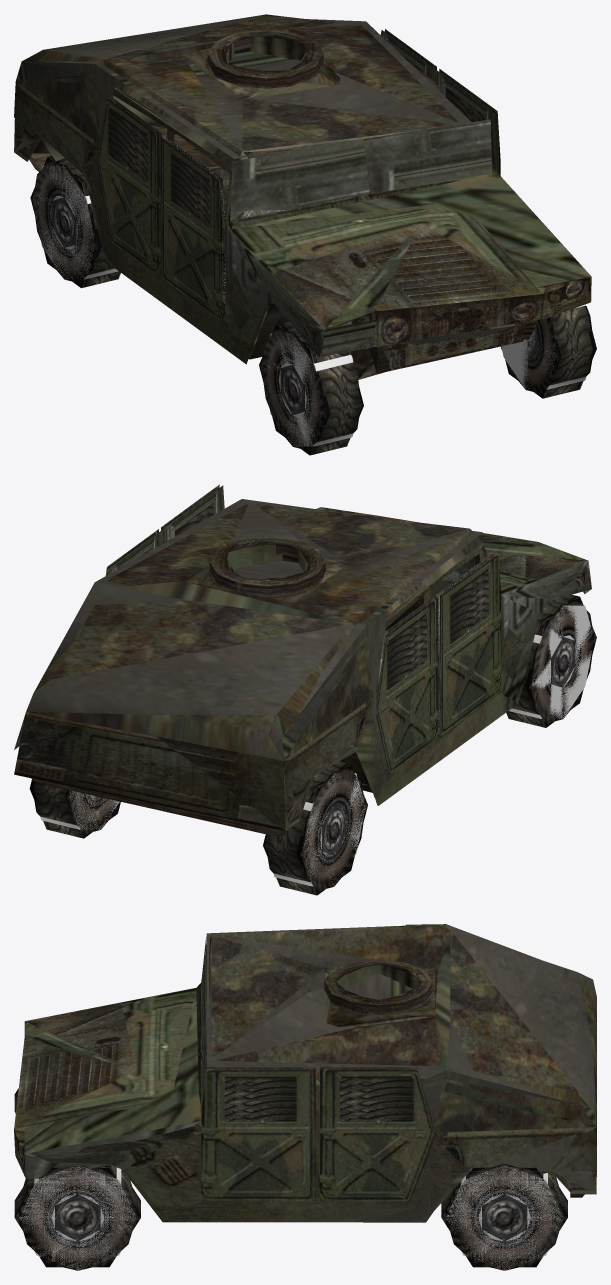
Rendered from FHum50X.glb.
3 views of the same model, one above another, from view 1: azimuth 30°, elevation 25°; view 2: azimuth 150°, elevation 25°; view 3: azimuth 270°, elevation 25° (orthographic). The views are drawn at different scales.
Parts seen in each view (by area): view 1: 01 Mesh0, 01 Mesh0.003, 01 Mesh0.001, 07 Mesh0, 09 Mesh0, 01 Mesh0.002, 03 Mesh0, 05 Mesh0, 02 Mesh0, 03 Mesh0.002, 05 Mesh0.002, 05 Mesh0.001 (+7 smaller); view 2: 01 Mesh0, 01 Mesh0.001, 01 Mesh0.003, 07 Mesh0, 09 Mesh0, 05 Mesh0.002, 05 Mesh0, 03 Mesh0, 01 Mesh0.002, 03 Mesh0.002, 03 Mesh0.001, 04 Mesh0.002 (+7 smaller); view 3: 01 Mesh0, 01 Mesh0.001, 01 Mesh0.003, 06 Mesh0, 08 Mesh0, 02 Mesh0, 04 Mesh0, 01 Mesh0.002, 04 Mesh0.002, 02 Mesh0.002, 02 Mesh0.001, 04 Mesh0.001 (+3 smaller).
Part boxes in pixels (x1,y1,x2,y2): 01 Mesh0: (14, 14, 591, 378); 01 Mesh0.003: (14, 19, 591, 357); 01 Mesh0.001: (16, 14, 545, 372); 07 Mesh0: (160, 135, 225, 322); 09 Mesh0: (97, 97, 162, 276); 01 Mesh0.002: (14, 25, 589, 379); 03 Mesh0: (262, 329, 359, 450); 05 Mesh0: (33, 161, 114, 283); 02 Mesh0: (501, 305, 592, 393); 03 Mesh0.002: (259, 321, 363, 455); 05 Mesh0.002: (30, 156, 120, 288); 05 Mesh0.001: (33, 165, 118, 279); 01 Mesh0: (14, 503, 586, 837); 01 Mesh0.001: (14, 510, 591, 831); 01 Mesh0.003: (34, 499, 591, 830); 07 Mesh0: (436, 551, 501, 737); 09 Mesh0: (372, 596, 437, 774); 05 Mesh0.002: (263, 761, 367, 895); 05 Mesh0: (267, 767, 365, 890); 03 Mesh0: (512, 599, 592, 722); 01 Mesh0.002: (123, 507, 539, 829); 03 Mesh0.002: (506, 594, 596, 727); 03 Mesh0.001: (509, 605, 591, 718); 04 Mesh0.002: (29, 779, 120, 838); 01 Mesh0: (14, 925, 596, 1222); 01 Mesh0.001: (14, 930, 596, 1222); 01 Mesh0.003: (24, 924, 596, 1222); 06 Mesh0: (201, 1067, 315, 1201); 08 Mesh0: (320, 1067, 434, 1201); 02 Mesh0: (19, 1164, 136, 1270); 04 Mesh0: (446, 1163, 563, 1270); 01 Mesh0.002: (14, 959, 594, 1222); 04 Mesh0.002: (441, 1167, 567, 1267); 02 Mesh0.002: (14, 1165, 140, 1267); 02 Mesh0.001: (19, 1165, 135, 1270); 04 Mesh0.001: (446, 1166, 562, 1270).
Bounding box in the file's own units: 2.56 × 2.15 × 4.98.
5 materials, 4 textured.
